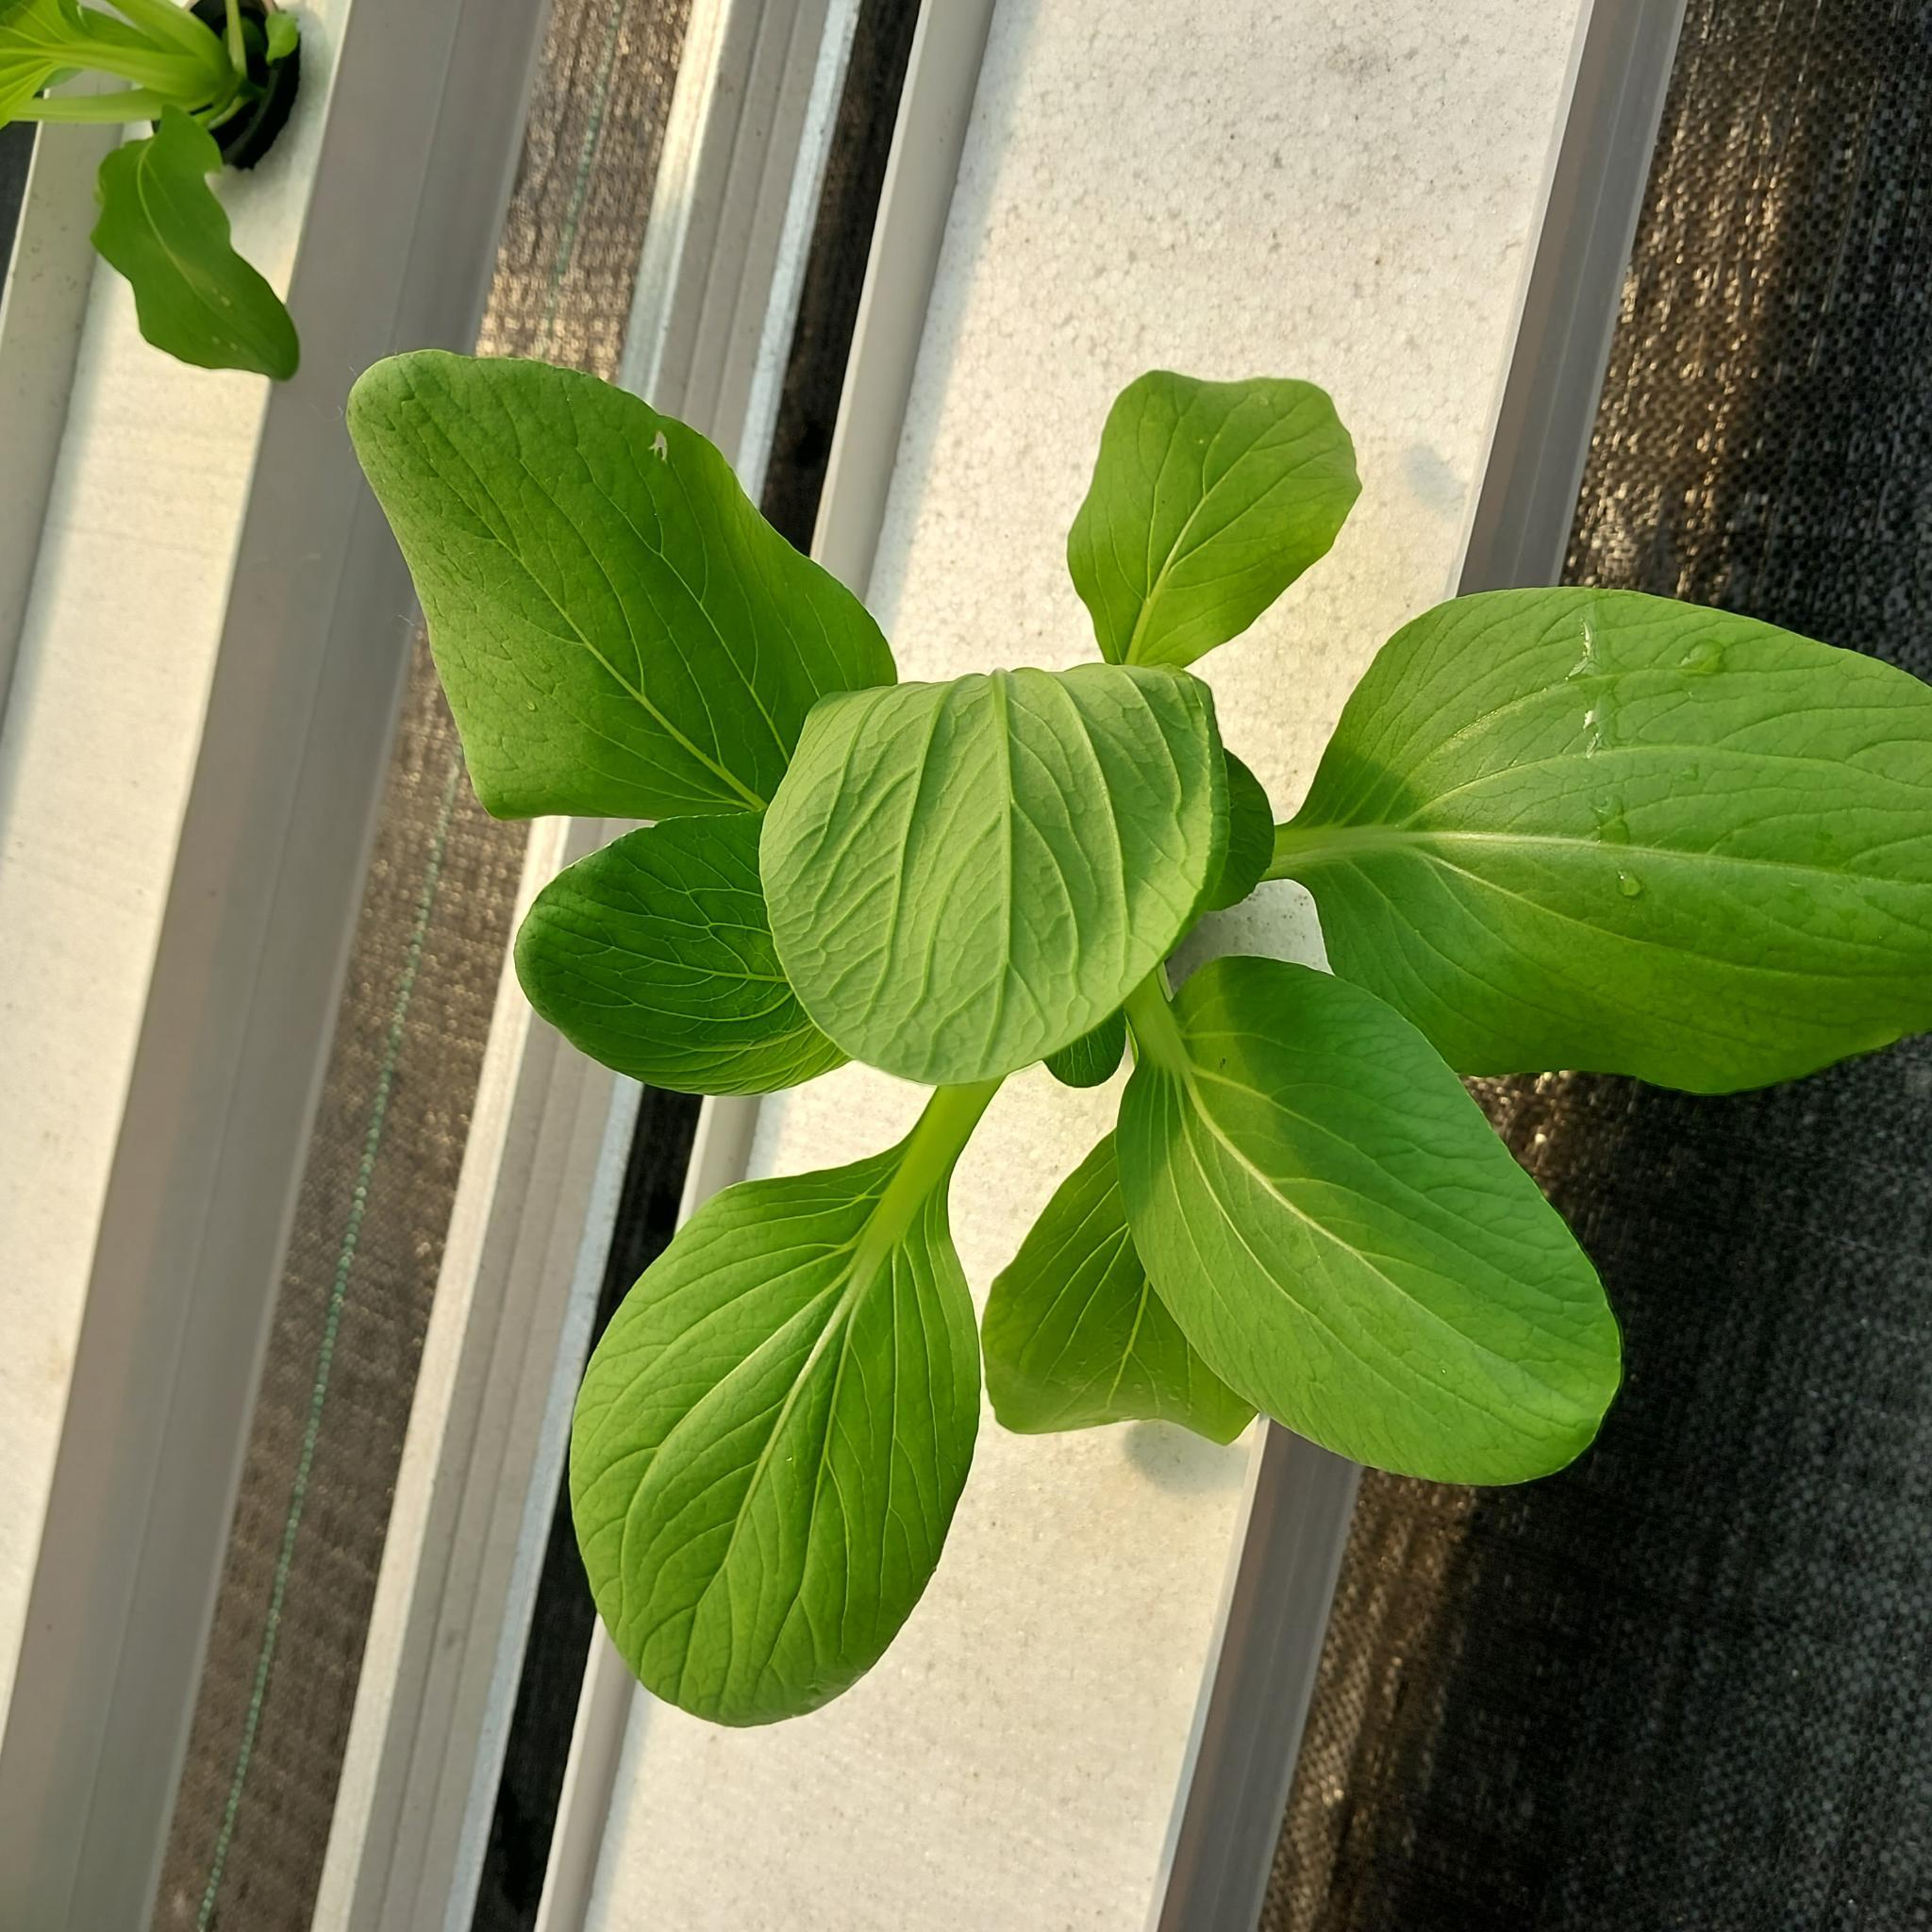Healthy-Pechay: (1242, 593, 1930, 1081), (1077, 962, 1628, 1484), (347, 349, 901, 837), (568, 1122, 973, 1729), (787, 663, 1184, 1092), (513, 812, 865, 1097), (1067, 370, 1362, 681), (984, 1097, 1224, 1445), (85, 106, 301, 384), (1633, 694, 1932, 777)
